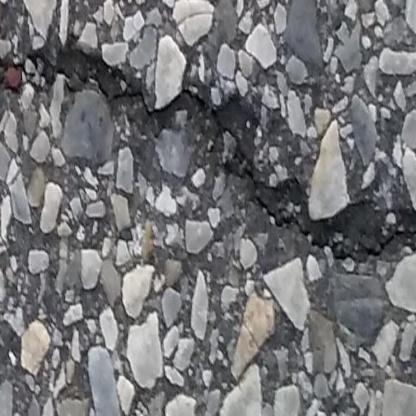Cracks: (0, 33, 416, 269)
